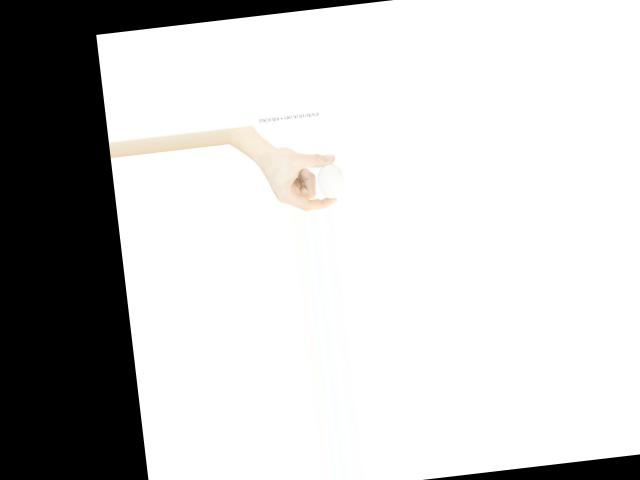egg: (315, 162, 344, 199)
